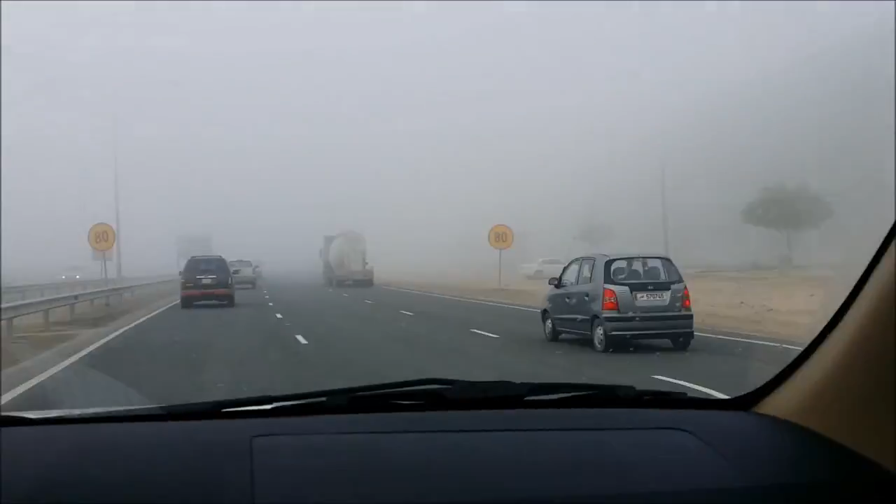car: (539, 251, 697, 353), (177, 254, 239, 307), (516, 255, 592, 283), (221, 259, 260, 289), (60, 262, 84, 284)
